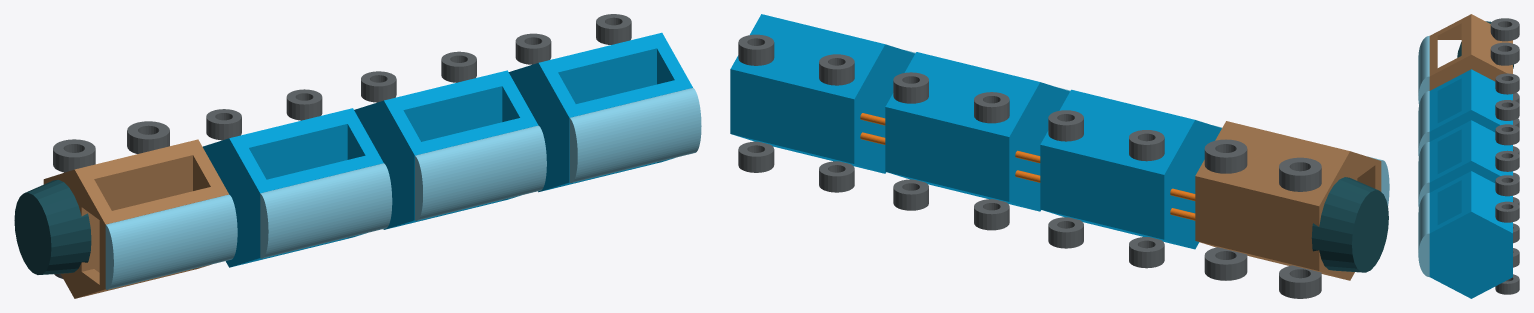
The model's file is tinkered.obj.
3 renders of one model, left to right at view 1: azimuth 30°, elevation 25°; view 2: azimuth 150°, elevation 25°; view 3: azimuth 270°, elevation 25°, orthographic. The views are drawn at different scales.
Parts seen in each view (by area): view 1: group_0_40919, group_0_8768998, group_0_11107152, group_0_6383466, group_0_1855578; view 2: group_0_40919, group_0_6383466, group_0_11107152, group_0_1855578, group_0_16089887; view 3: group_0_40919, group_0_6383466, group_0_11107152, group_0_8768998.
Part boxes in pixels (<box>): group_0_40919: <box>203,32,692,267</box>; group_0_8768998: <box>105,88,701,289</box>; group_0_11107152: <box>43,139,228,298</box>; group_0_6383466: <box>53,14,631,278</box>; group_0_1855578: <box>14,179,91,274</box>; group_0_40919: <box>730,14,1221,249</box>; group_0_6383466: <box>738,34,1321,298</box>; group_0_11107152: <box>1195,121,1381,280</box>; group_0_1855578: <box>1311,177,1388,272</box>; group_0_16089887: <box>860,113,1195,220</box>; group_0_40919: <box>1429,69,1512,298</box>; group_0_6383466: <box>1490,18,1519,294</box>; group_0_11107152: <box>1429,14,1512,90</box>; group_0_8768998: <box>1418,36,1429,276</box>.
Size of the model in its own units: 100 by 21 by 21.
